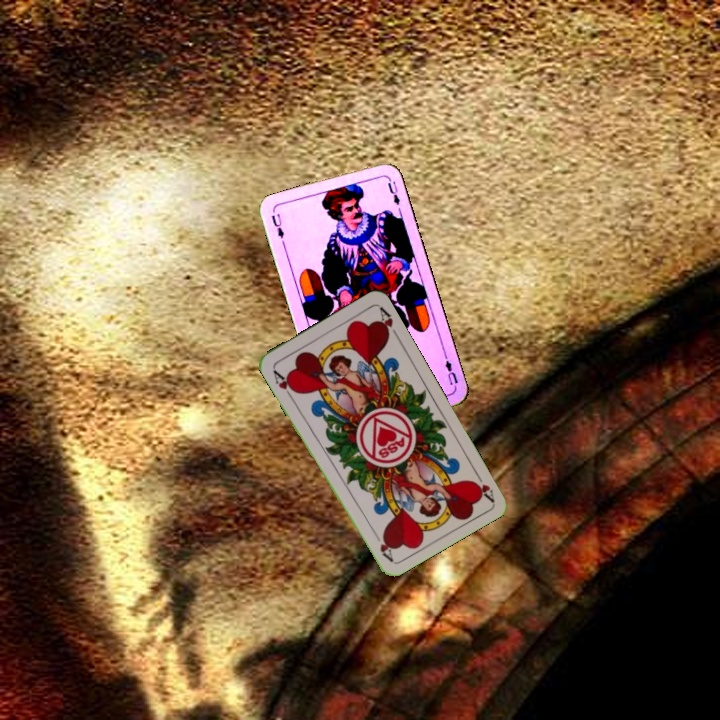EU: (439, 353, 460, 388), (267, 210, 287, 241)
HA: (269, 366, 299, 402), (468, 466, 497, 503)
